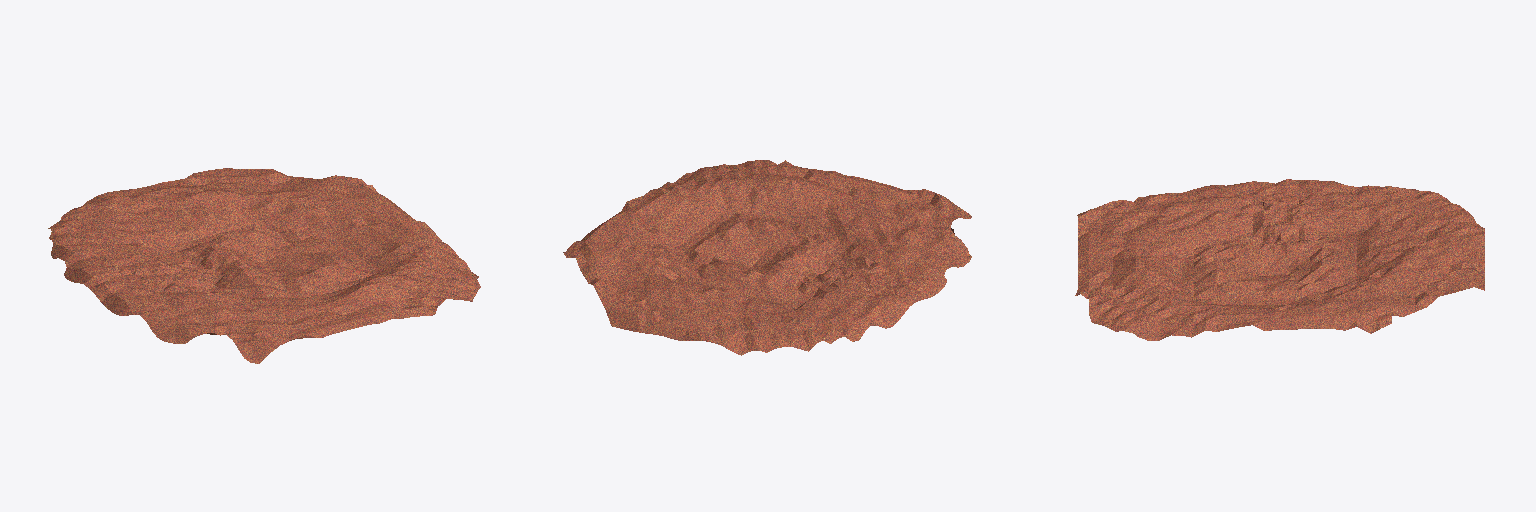
3 views of the same model, side by side, from view 1: azimuth 30°, elevation 25°; view 2: azimuth 150°, elevation 25°; view 3: azimuth 270°, elevation 25° (orthographic).
Parts seen in each view (by area): view 1: groundsnow:Mesh2 groundsnow:polySurface2 groundsnow:polySurface5; view 2: groundsnow:Mesh2 groundsnow:polySurface2 groundsnow:polySurface5; view 3: groundsnow:Mesh2 groundsnow:polySurface2 groundsnow:polySurface5.
Boxes of the visible parts, <box> form: groundsnow:Mesh2 groundsnow:polySurface2 groundsnow:polySurface5: <box>48,168,480,363</box>; groundsnow:Mesh2 groundsnow:polySurface2 groundsnow:polySurface5: <box>563,160,971,355</box>; groundsnow:Mesh2 groundsnow:polySurface2 groundsnow:polySurface5: <box>1075,179,1484,340</box>.
Bounding box in the file's own units: 1001 × 84.88 × 1129.
Materials: 1 (1 with a texture image).